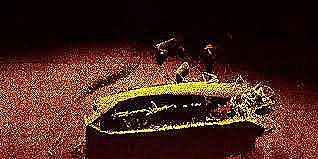ship: (83, 71, 275, 136)
